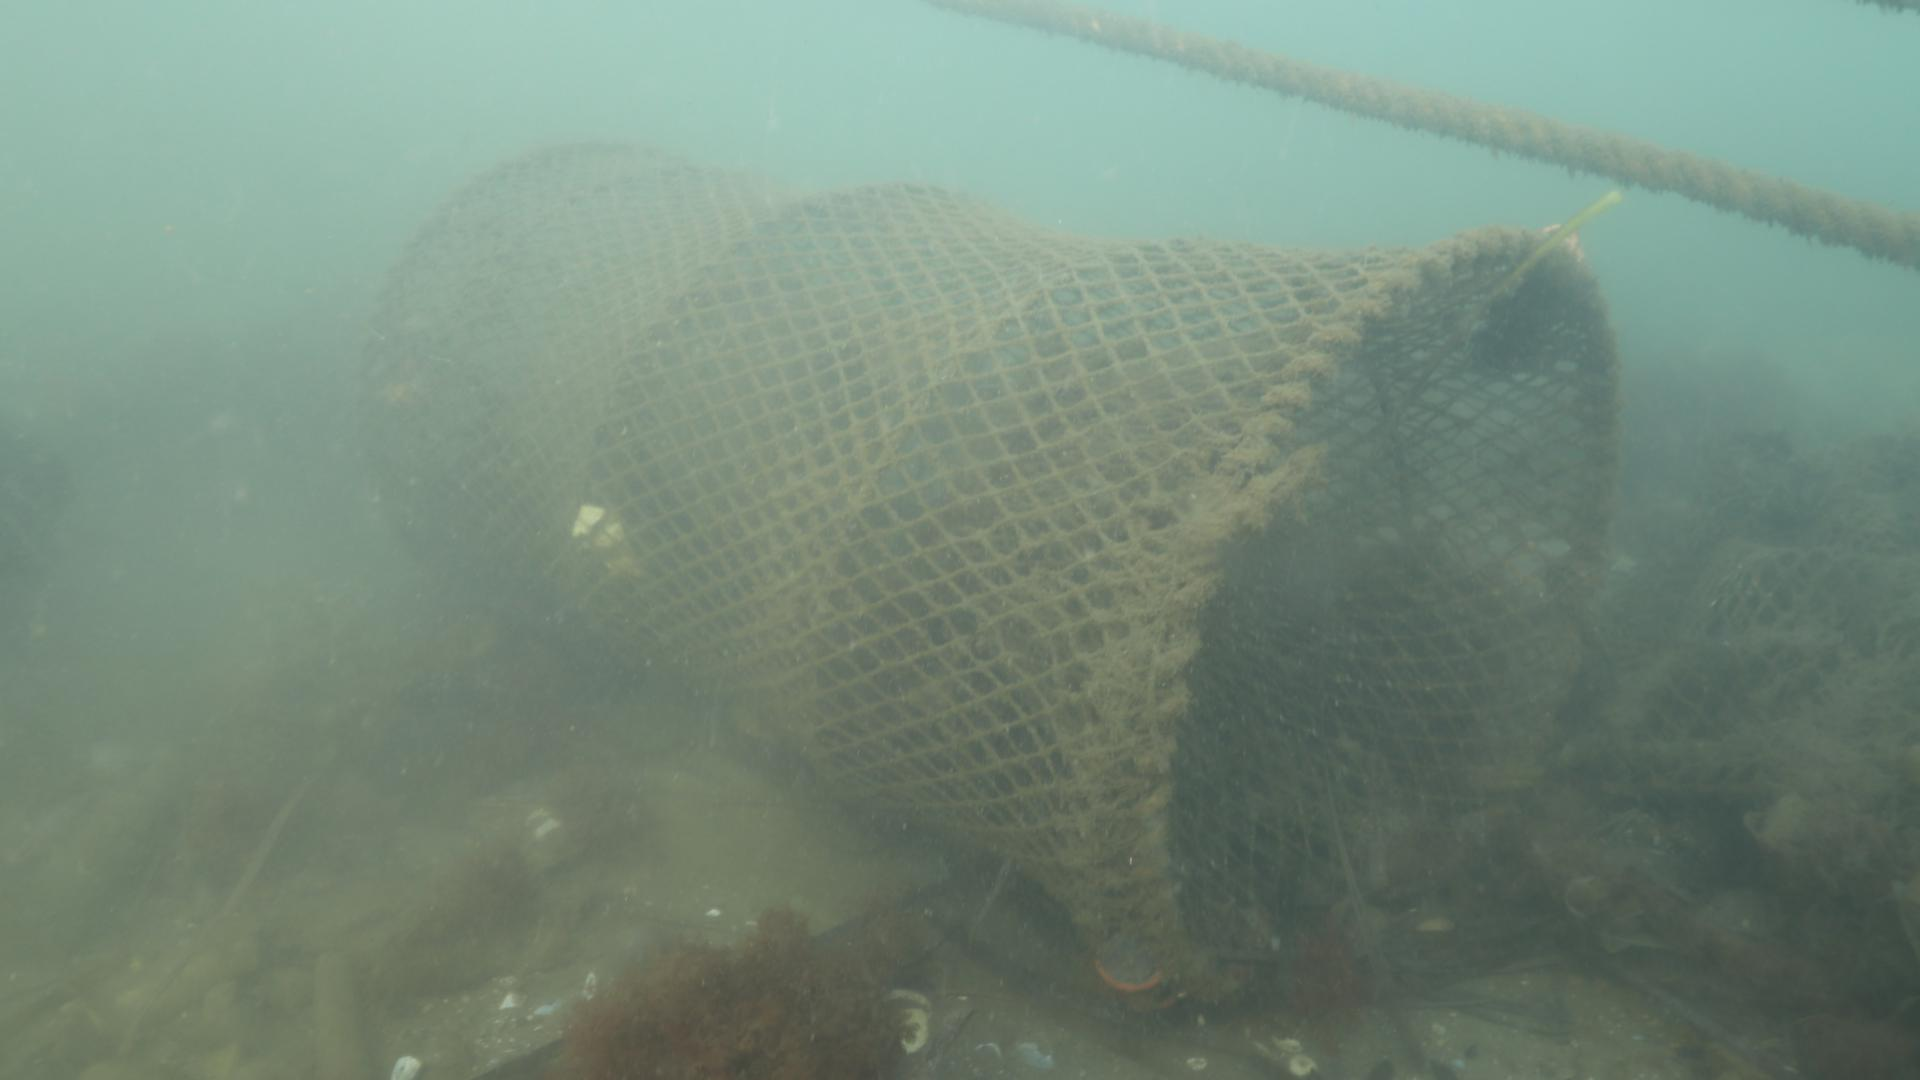fish net: (1625, 541, 1920, 820)
rope: (916, 0, 1920, 268)
spring fish trap: (351, 135, 1629, 1015)
